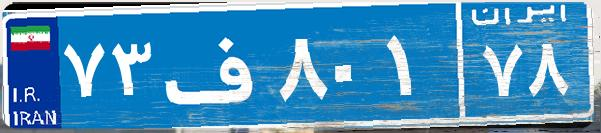0: (330, 28, 385, 110)
1: (385, 28, 445, 110)
3: (110, 28, 158, 105)
7: (57, 26, 110, 107), (475, 38, 525, 113)
8: (273, 28, 330, 110), (525, 38, 570, 115)
ف: (158, 15, 273, 115)
